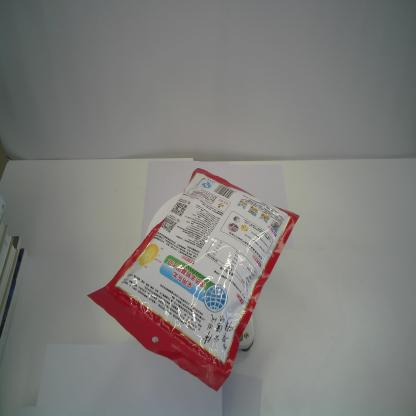Instant Drink: (87, 166, 300, 393)
